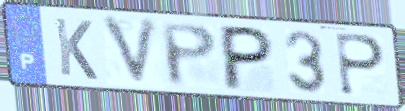3: (283, 28, 329, 97)
K: (52, 15, 100, 83)
P: (158, 22, 220, 90), (221, 23, 276, 92), (333, 31, 387, 99)
V: (98, 14, 162, 90)
